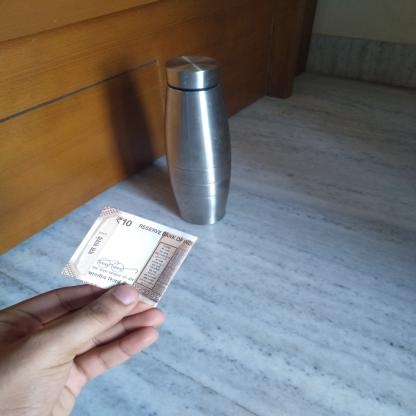New10Back: (77, 206, 191, 300)
